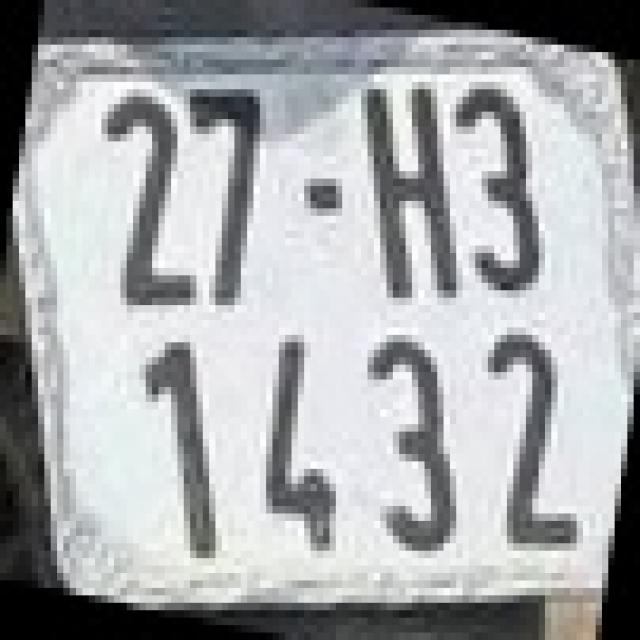1: (140, 335, 228, 565)
2: (95, 82, 203, 312), (482, 327, 589, 551)
3: (361, 328, 469, 558), (456, 82, 552, 290)
4: (254, 328, 342, 558)
7: (190, 82, 266, 305)
H: (355, 82, 462, 305)
